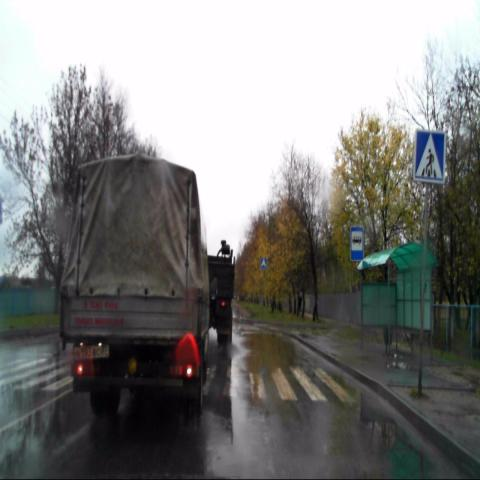5_16: (350, 224, 364, 262)
5_19_1: (412, 128, 447, 185)
5_20: (259, 255, 267, 269)
